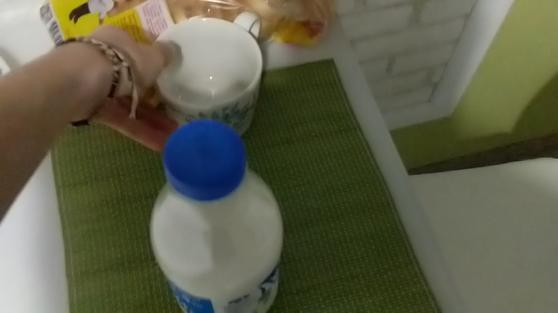milk: (137, 117, 289, 313)
